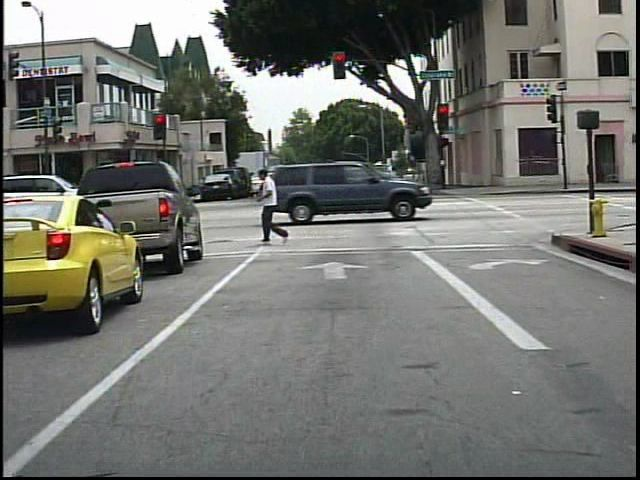person: (253, 165, 293, 247), (266, 165, 294, 208)
